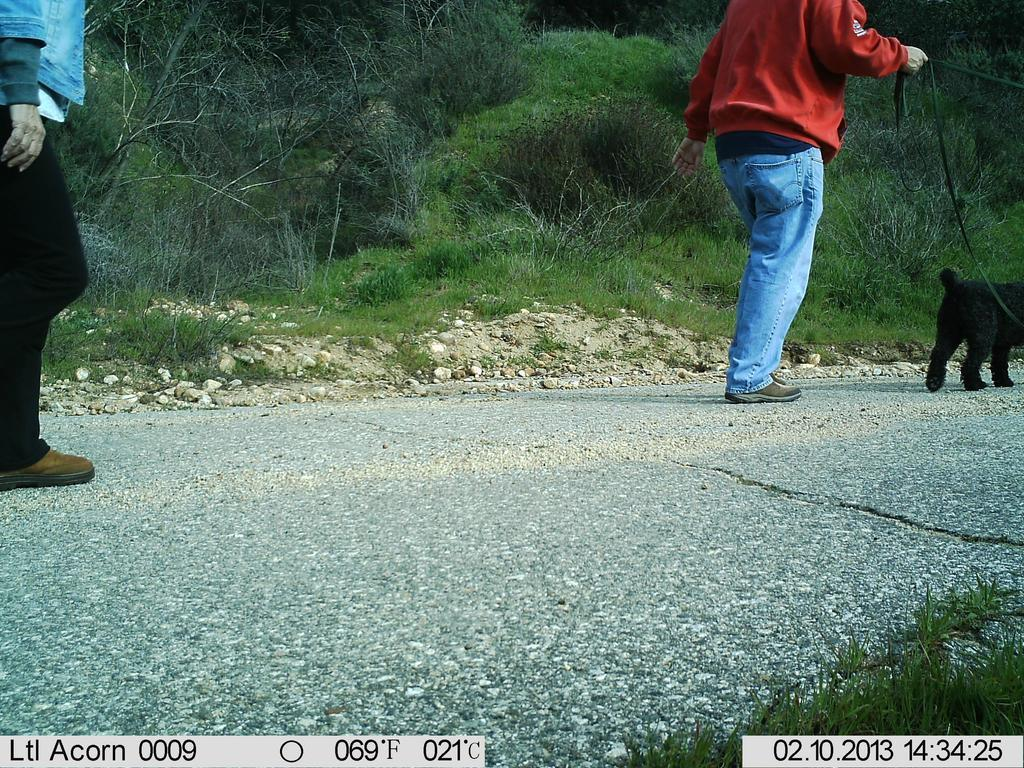dog: (921, 254, 1017, 399)
